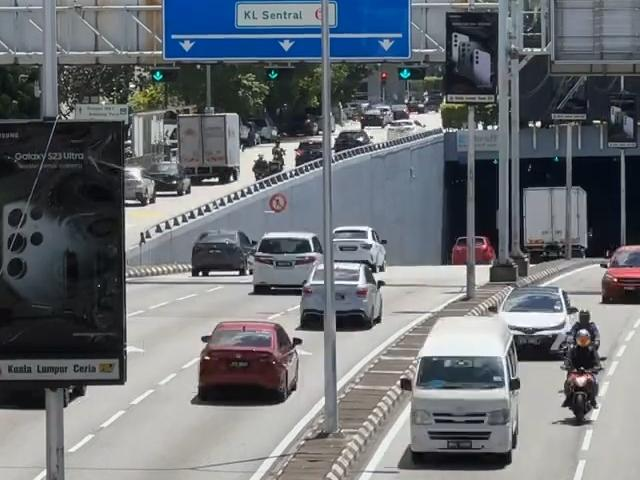car: (412, 313, 523, 467), (203, 320, 298, 405), (300, 263, 385, 332), (498, 282, 573, 357), (253, 227, 325, 295), (190, 227, 255, 282), (328, 225, 389, 278), (598, 241, 640, 303), (147, 159, 193, 197), (451, 234, 496, 268), (125, 165, 159, 206), (331, 130, 372, 155), (294, 139, 325, 165), (361, 105, 391, 127), (386, 111, 415, 130)
motorcycle: (561, 330, 599, 421), (563, 307, 600, 374), (252, 153, 270, 181), (270, 140, 286, 171)
truck: (523, 185, 587, 261)
